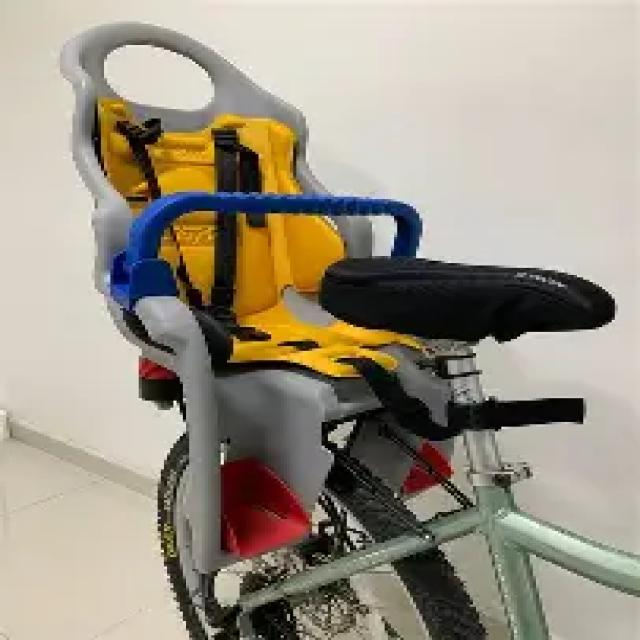childseat: (58, 18, 438, 540)
